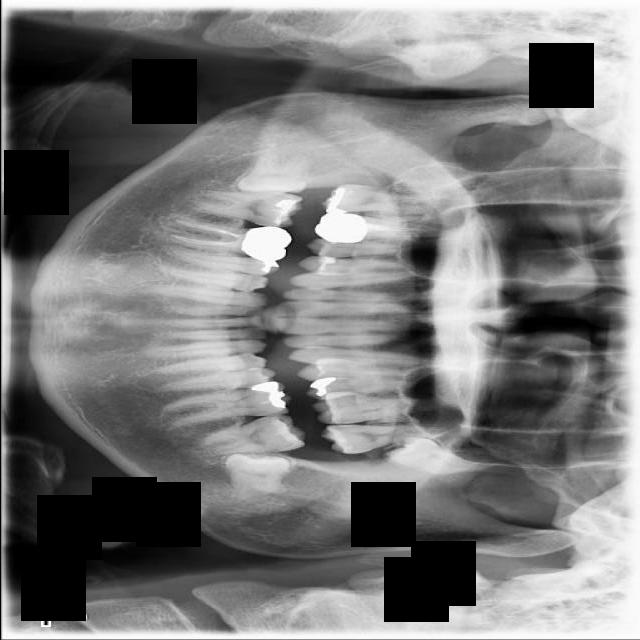3M ESPE Implant: (320, 182, 447, 214)
52: (236, 377, 293, 423), (247, 190, 303, 228), (238, 225, 291, 263), (320, 182, 377, 214), (294, 355, 349, 385), (313, 212, 366, 243), (301, 373, 352, 404), (299, 255, 354, 276), (236, 257, 279, 276)
73: (164, 214, 247, 258), (363, 216, 459, 241), (94, 540, 107, 556)
BioHorizons Implant: (320, 423, 453, 456)
BioLife Implant: (382, 427, 482, 488)
Biomet 3i Implant: (223, 449, 292, 498)
Blue Sky Bio Implant: (193, 411, 306, 460)
Caries: (311, 209, 460, 256)
Implant: (185, 185, 303, 229)
Keystone Dental Implant: (237, 153, 304, 195)
